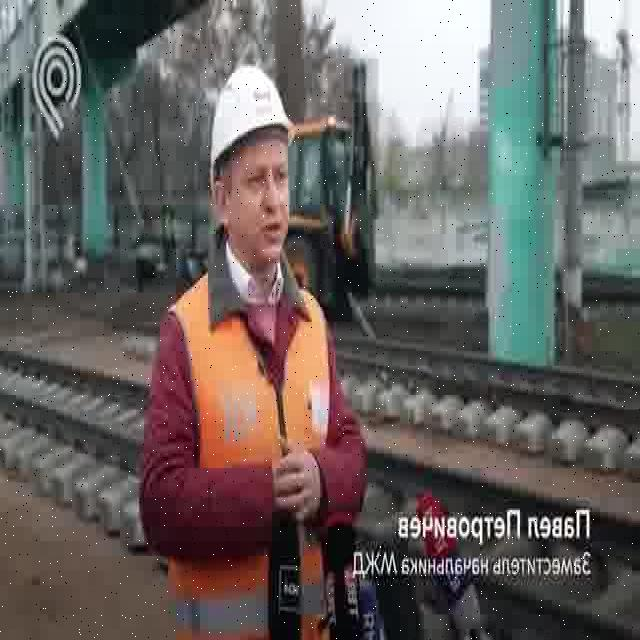Hard_hat: (204, 62, 297, 167)
Person: (135, 51, 373, 640)
Vest: (174, 282, 344, 606)
